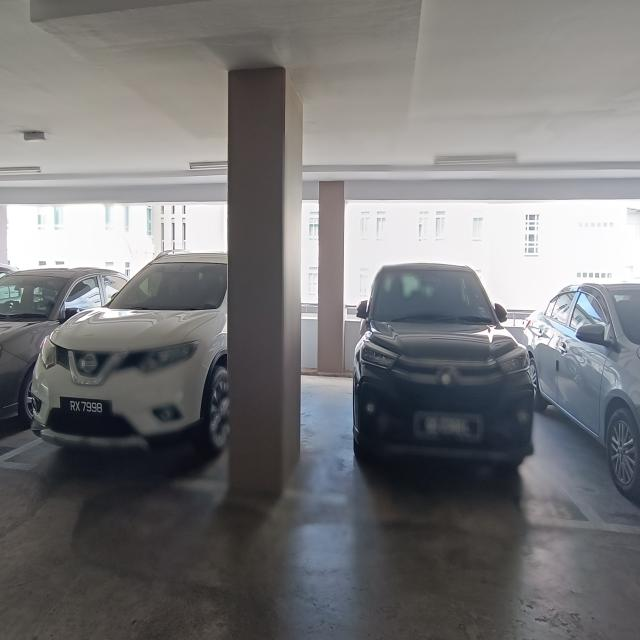PeroduaAtiva: (346, 257, 543, 487)
